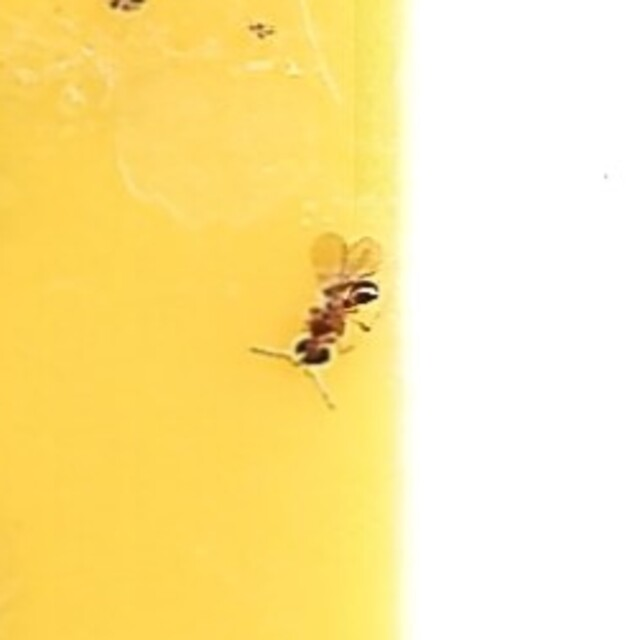Hymenoptera: (255, 232, 385, 408)
